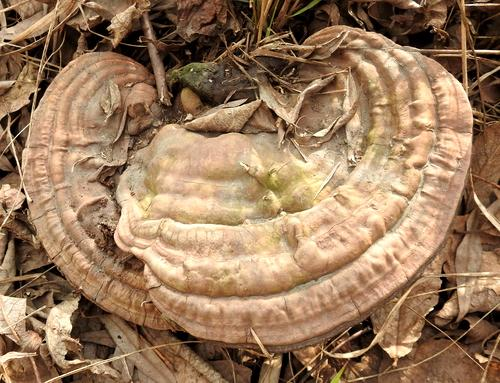Ganoderma - Fruit Body: (23, 21, 472, 352)
